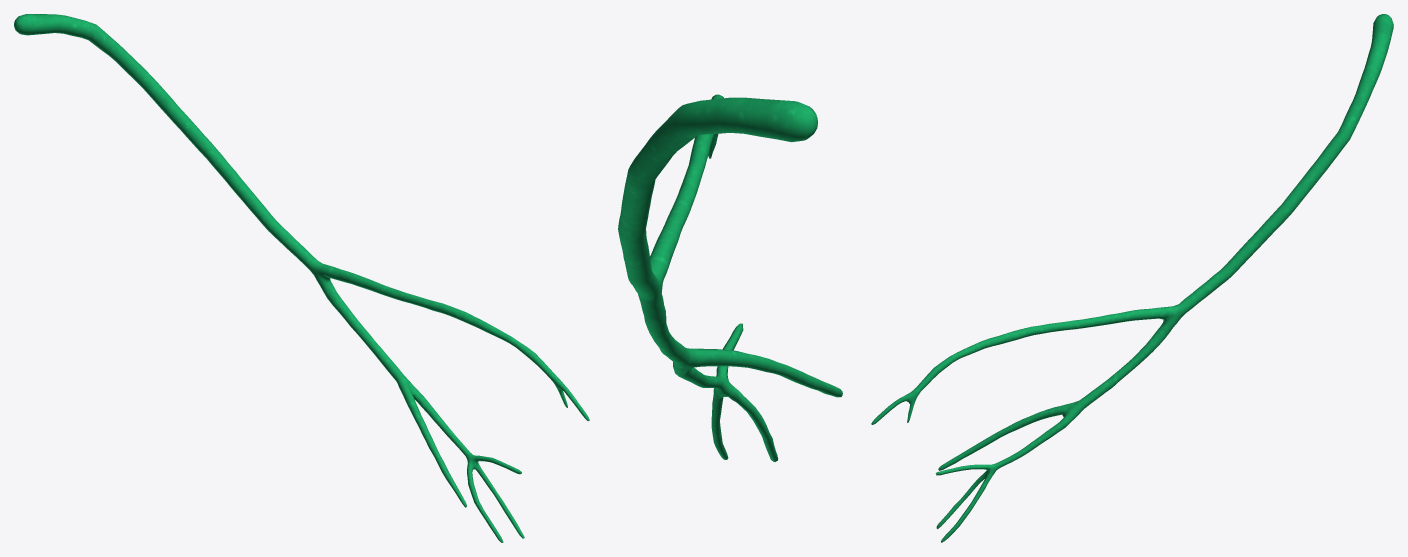
Rendered from CN III - Oculomotor Nerve.glb.
3 renders of one model, left to right at view 1: azimuth 30°, elevation 25°; view 2: azimuth 150°, elevation 25°; view 3: azimuth 270°, elevation 25°, orthographic. The views are drawn at different scales.
Visible parts, largest first — view 1: CN III - Oculomotor Nerve.glb; view 2: CN III - Oculomotor Nerve.glb; view 3: CN III - Oculomotor Nerve.glb.
Boxes of the visible parts, box(x1,y1,x2,y2) form: CN III - Oculomotor Nerve.glb: box(14, 14, 589, 542); CN III - Oculomotor Nerve.glb: box(618, 94, 842, 461); CN III - Oculomotor Nerve.glb: box(871, 14, 1393, 542).
Size of the model in its own units: 0.0778 by 0.1015 by 0.1195.
Materials: 1 (1 with a texture image).
